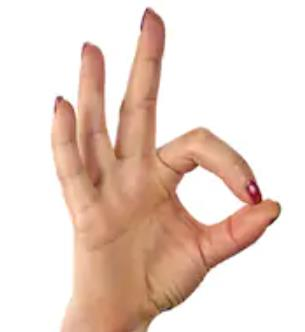left: (47, 5, 284, 316)
